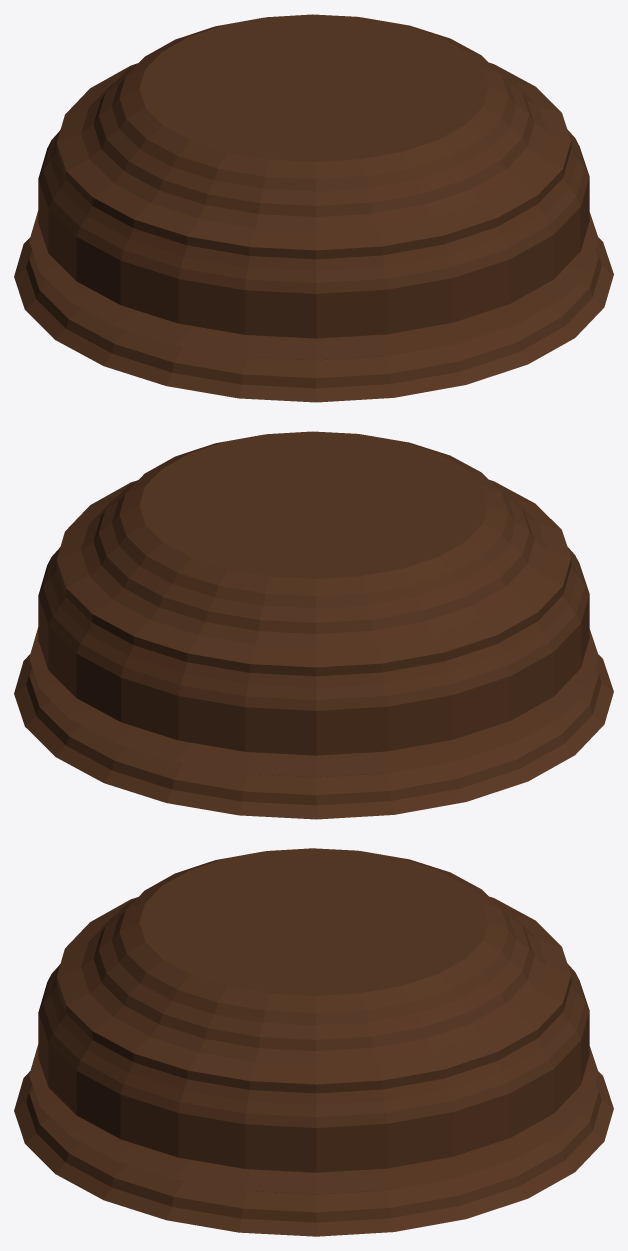
Rendered from result.glb.
3 renders of one model, top to bottom at view 1: azimuth 30°, elevation 25°; view 2: azimuth 150°, elevation 25°; view 3: azimuth 270°, elevation 25°, orthographic.
Size of the model in its own units: 1.49 by 0.5861 by 1.49.
